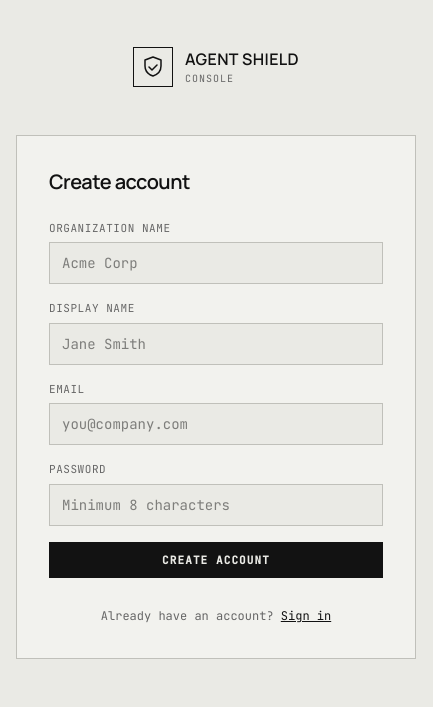
Test: RegisterPage — 409 surfaces real server message via MSW › shows "Email already registered" NOT "Load failed"
Type "Acme" into the field with placeholder "Acme Corp" at (216, 263), box x1=49 y1=242 x2=383 y2=284
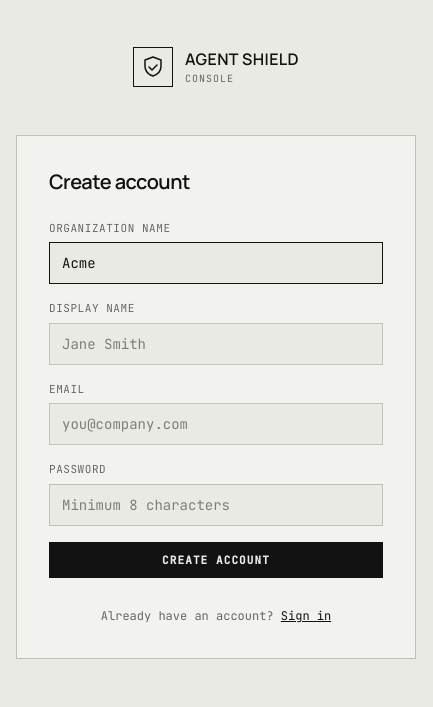
Type "Jane" into the field with placeholder "Jane Smith" at (216, 344), box x1=49 y1=323 x2=383 y2=365
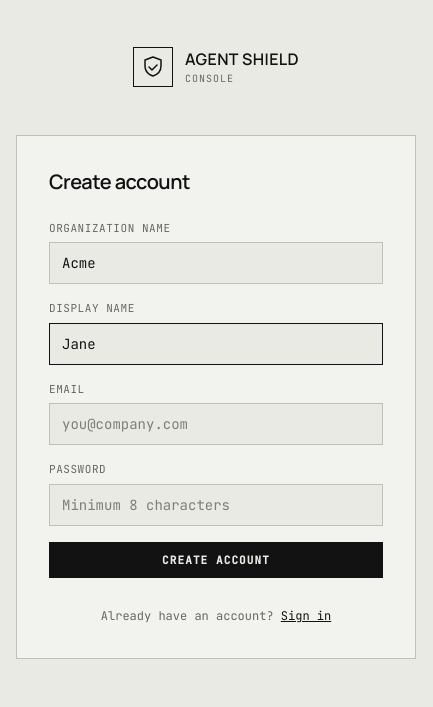
Type "taken@example.com" into the field with placeholder "you@company.com" at (216, 424), box x1=49 y1=403 x2=383 y2=445
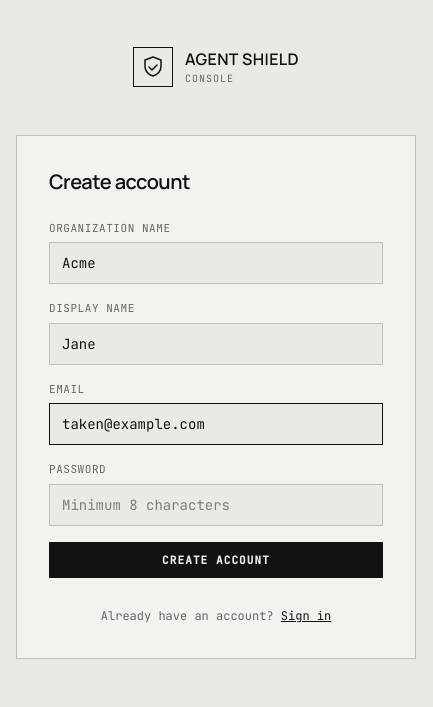
Type "password123" into the password field with placeholder "Minimum 8 characters" at (216, 505), box x1=49 y1=484 x2=383 y2=526
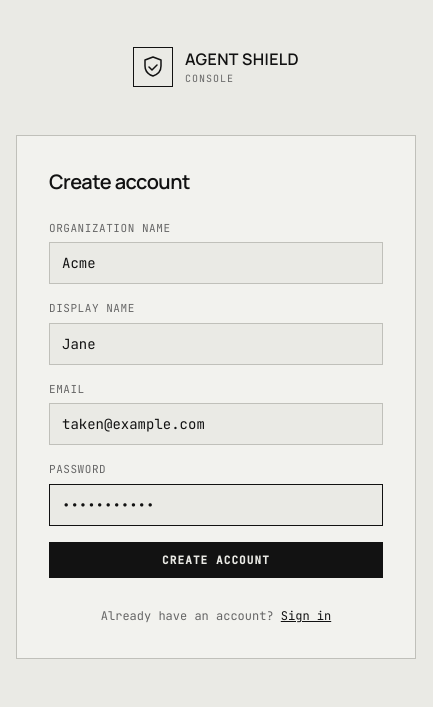
Click the button "Create Account" at (216, 560), box x1=49 y1=542 x2=383 y2=578
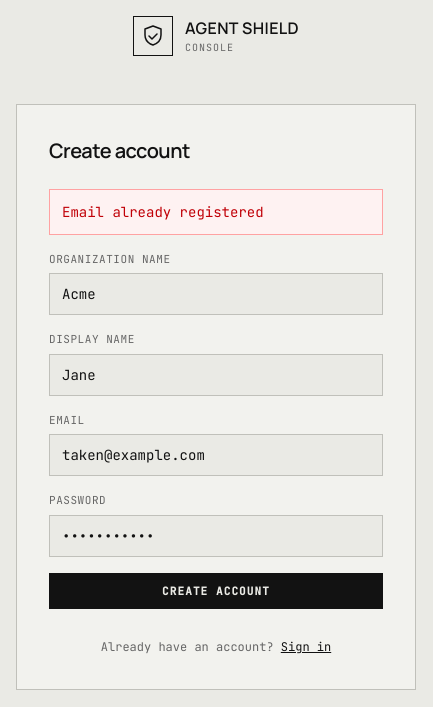
expect the text "Email already registered" is shown: met, box x1=49 y1=189 x2=383 y2=235
